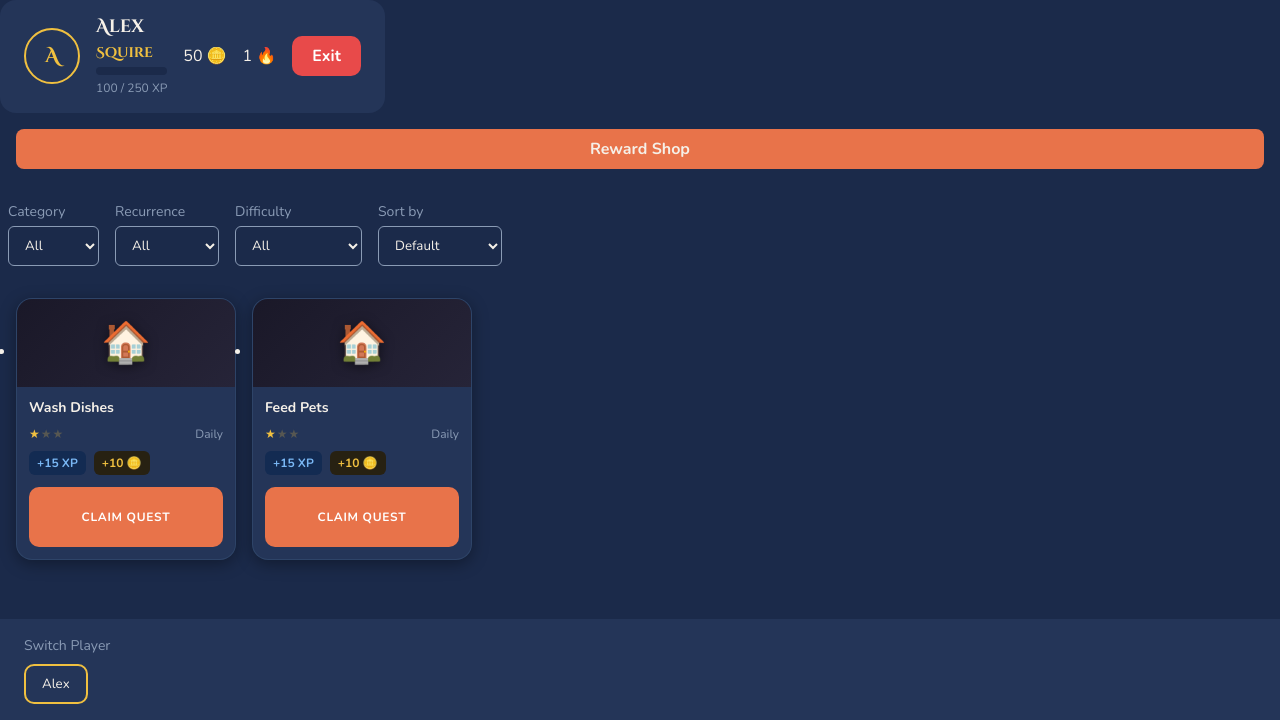
Scenario: QuestBoard › filters quest list when a Category filter is applied
The image size is (1280, 720).
Select "Kitchen" in the Category filter
Select "Kitchen" in the dropdown labelled "Category" at (54, 246), box [8,226,99,266]
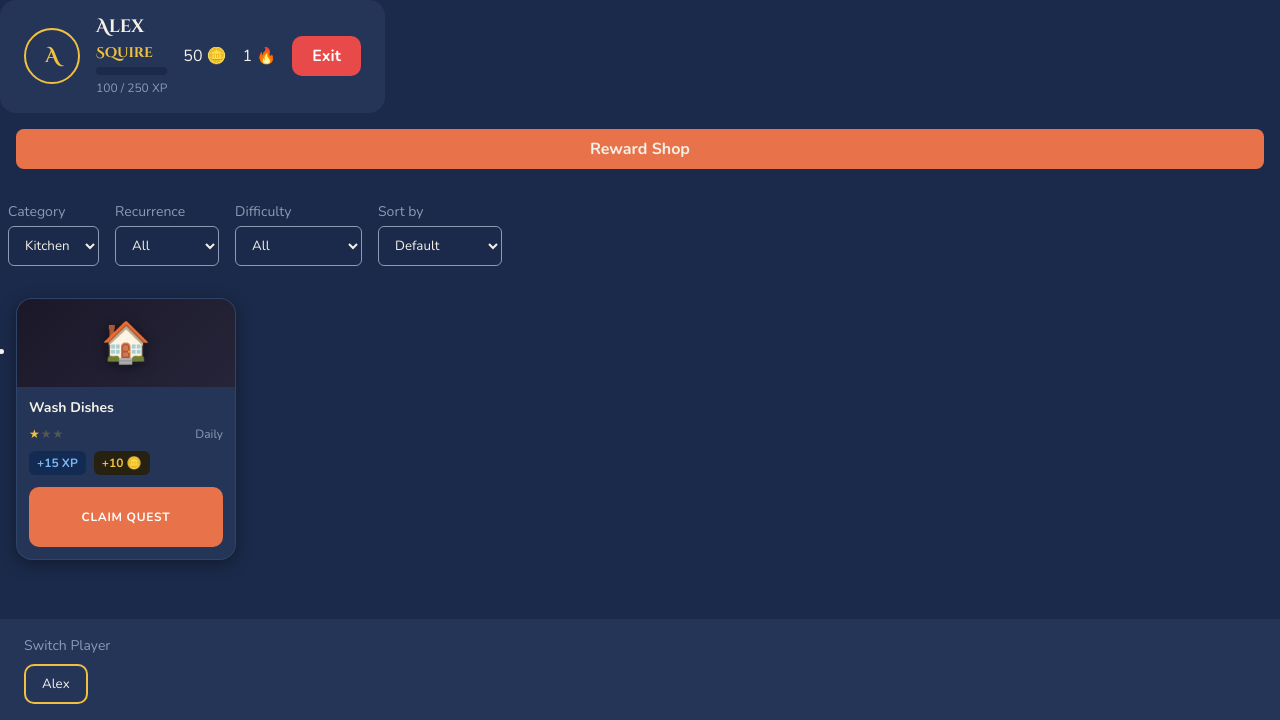
Expected: the heading "Wash Dishes" is shown, [29,398,114,417]
Result: the heading "Feed Pets" is gone
